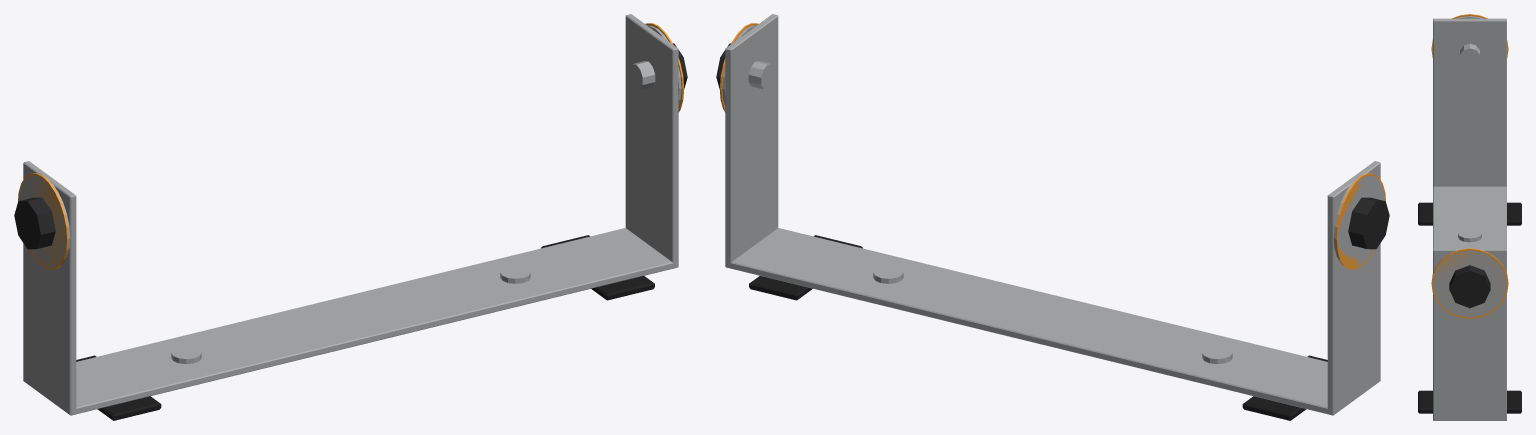
The model's file is csc_floodlight_f8_base.obj.
3 renders of one model, left to right at view 1: azimuth 30°, elevation 25°; view 2: azimuth 150°, elevation 25°; view 3: azimuth 270°, elevation 25°, orthographic. The views are drawn at different scales.
Parts seen in each view (by area): view 1: base_csc_adafb1, base_csc_1d1d1d, base_csc_272729, base_csc_f9a238; view 2: base_csc_adafb1, base_csc_1d1d1d, base_csc_272729, base_csc_f9a238; view 3: base_csc_adafb1, base_csc_1d1d1d, base_csc_272729, base_csc_f9a238.
Part boxes in pixels (<box>): base_csc_adafb1: <box>19,14,681,415</box>; base_csc_1d1d1d: <box>76,235,654,420</box>; base_csc_272729: <box>14,43,687,249</box>; base_csc_f9a238: <box>18,23,684,269</box>; base_csc_adafb1: <box>722,14,1384,415</box>; base_csc_1d1d1d: <box>749,235,1327,420</box>; base_csc_272729: <box>716,43,1389,249</box>; base_csc_f9a238: <box>719,23,1385,269</box>; base_csc_adafb1: <box>1433,16,1506,420</box>; base_csc_1d1d1d: <box>1418,202,1521,413</box>; base_csc_272729: <box>1449,265,1490,308</box>; base_csc_f9a238: <box>1431,14,1508,318</box>.
Size of the model in its own units: 1.57 by 0.5342 by 0.2803.
